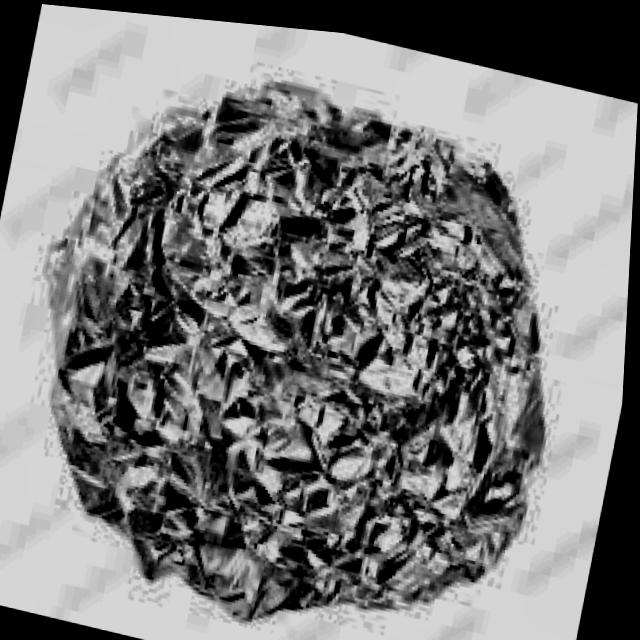Foil: (0, 5, 624, 640)
